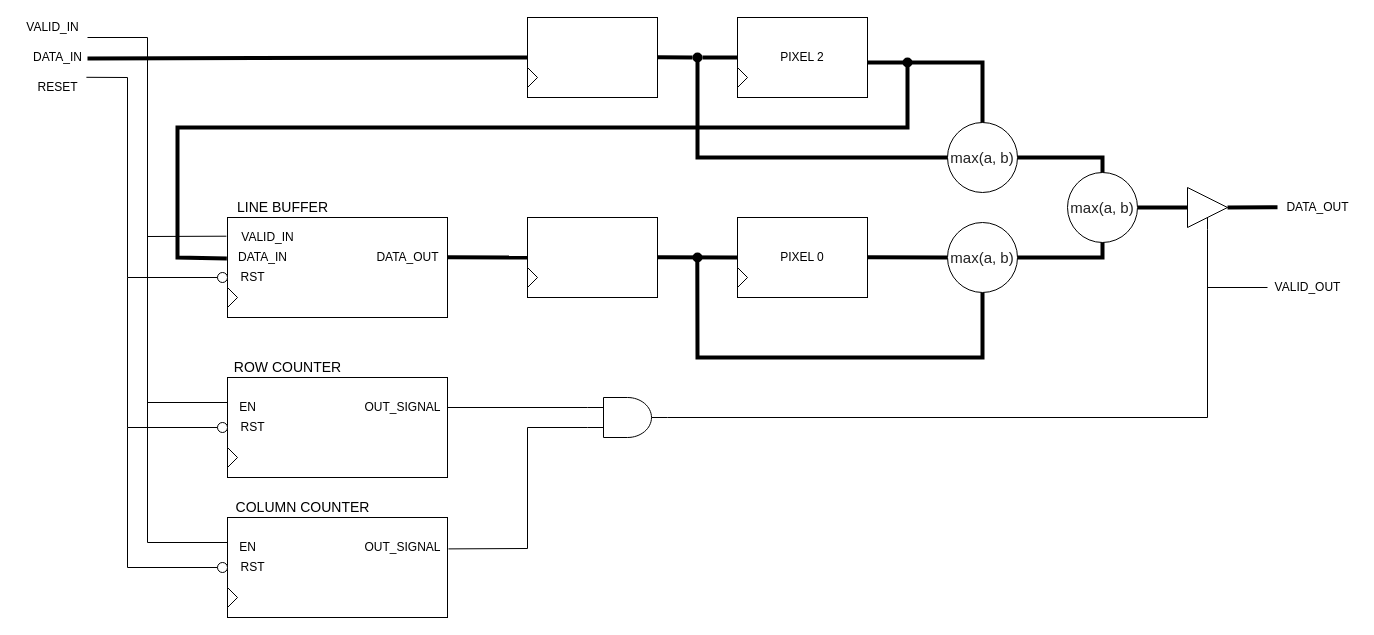
This 1374x635 diagram has some shape labels left out. Each missing label, with the centre of its shape:
PIXEL 1: the point at 592,257
PIXEL 3: the point at 592,57
